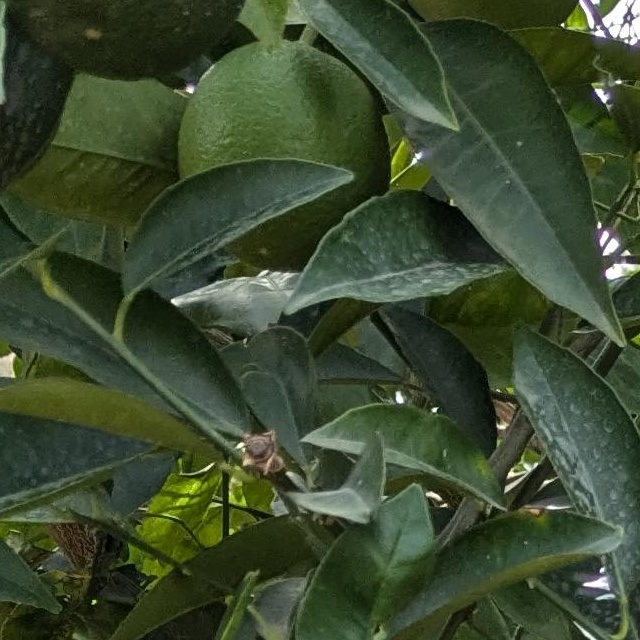orange: (182, 31, 398, 269), (0, 0, 250, 72), (387, 0, 591, 28)
